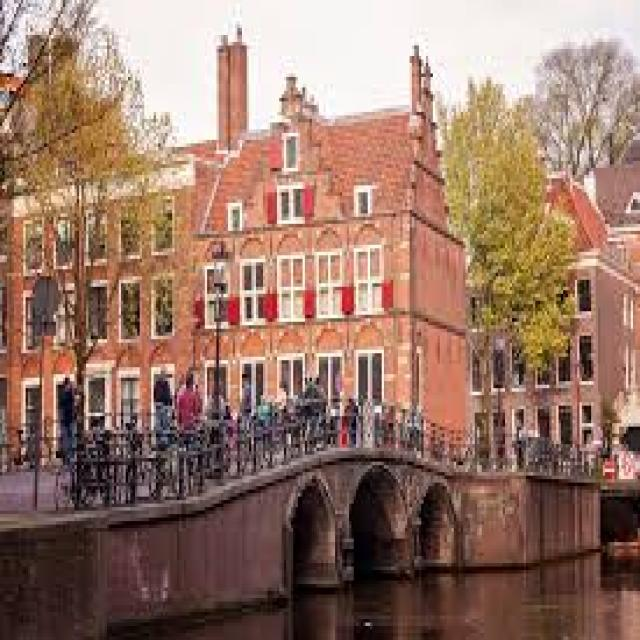Bridges: (2, 339, 640, 619)
